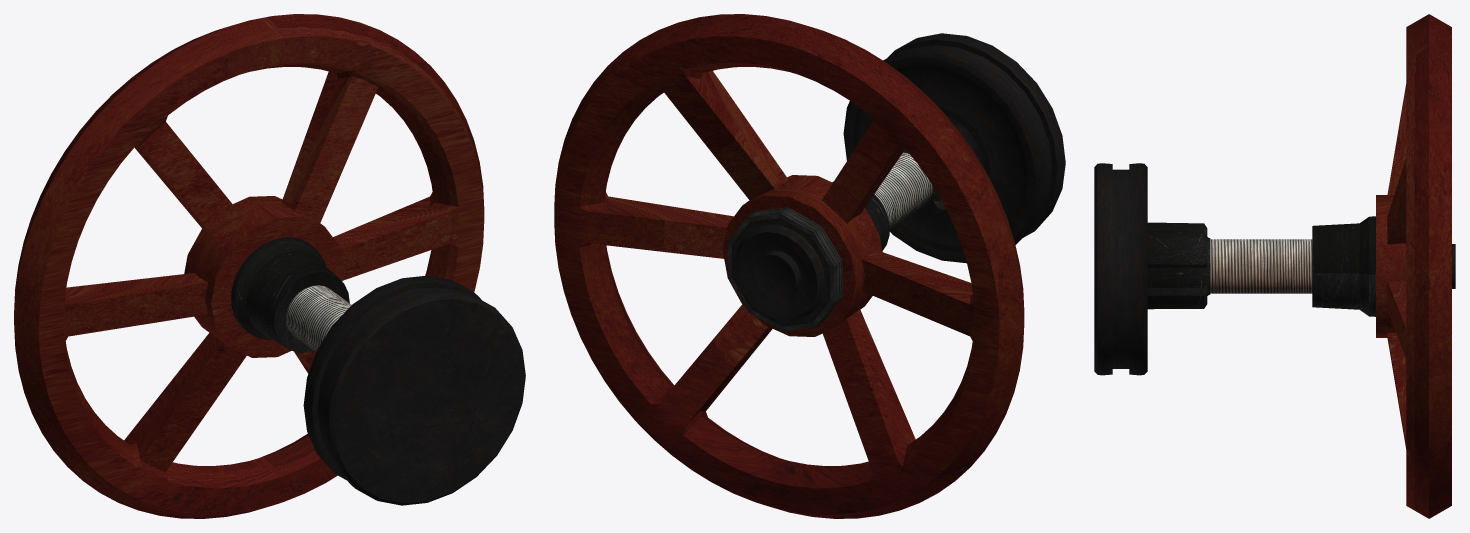
File: pressure-valve.glb
3 views of the same model, side by side, from view 1: azimuth 30°, elevation 25°; view 2: azimuth 150°, elevation 25°; view 3: azimuth 270°, elevation 25° (orthographic). The views are drawn at different scales.
Visible parts, largest first — view 1: 01 - Default, 09 - Default, 03 - Default, 07 - Default; view 2: 01 - Default, 09 - Default, 05 - Default, 07 - Default, 03 - Default; view 3: 01 - Default, 09 - Default, 03 - Default, 07 - Default.
Boxes of the visible parts, left/top/right/bottom form: 01 - Default: left=14, top=14, right=484, bottom=518; 09 - Default: left=303, top=275, right=525, bottom=505; 03 - Default: left=231, top=237, right=349, bottom=352; 07 - Default: left=286, top=285, right=351, bottom=351; 01 - Default: left=554, top=14, right=1024, bottom=518; 09 - Default: left=735, top=33, right=1065, bottom=321; 05 - Default: left=727, top=207, right=842, bottom=331; 07 - Default: left=874, top=152, right=932, bottom=229; 03 - Default: left=832, top=123, right=977, bottom=250; 01 - Default: left=1376, top=14, right=1451, bottom=518; 09 - Default: left=1094, top=163, right=1455, bottom=375; 03 - Default: left=1147, top=216, right=1375, bottom=316; 07 - Default: left=1210, top=239, right=1312, bottom=293.
Size of the model in its own units: 170 by 170 by 121.
Materials: 5 (5 with a texture image).
